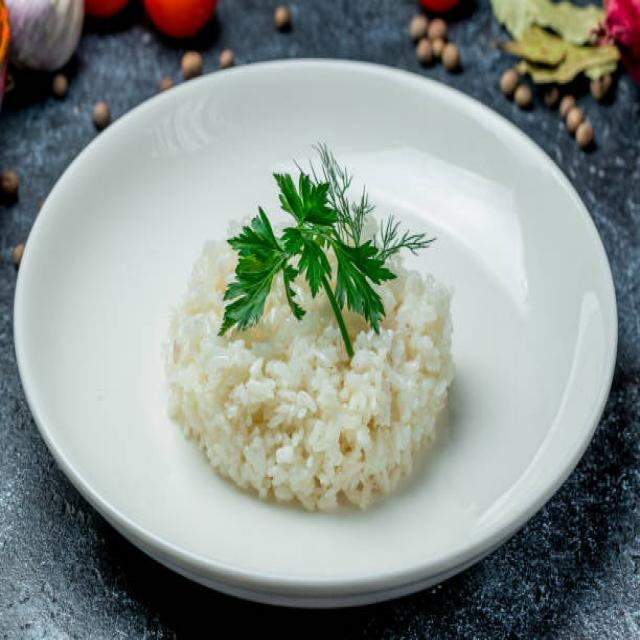rice: (165, 204, 458, 514)
